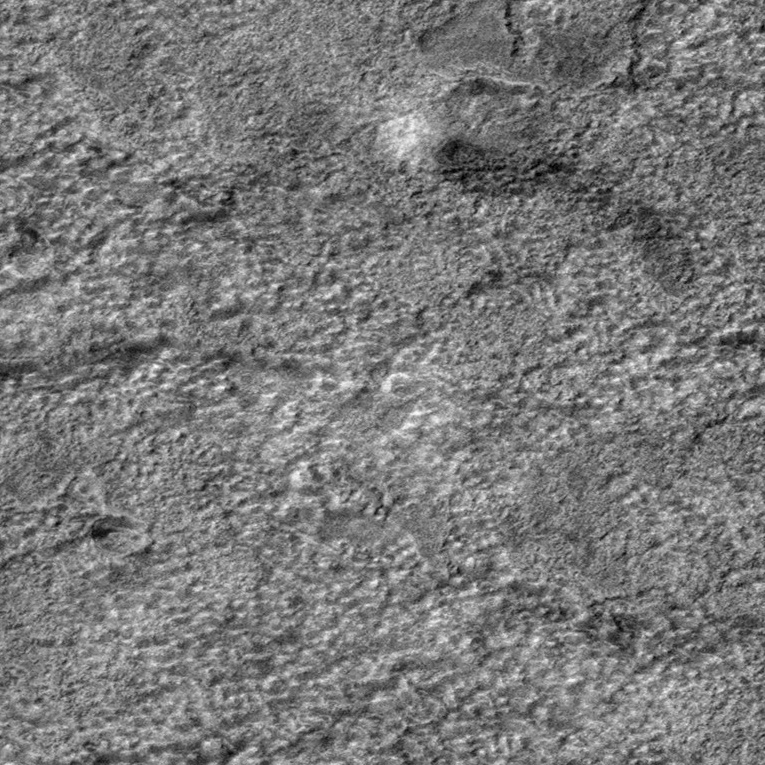dust_devil: (375, 111, 575, 200)
